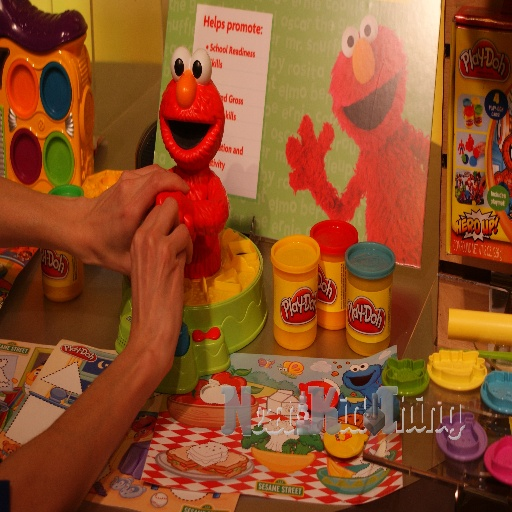hand: (25, 170, 198, 479), (84, 162, 189, 275), (128, 192, 194, 370)
